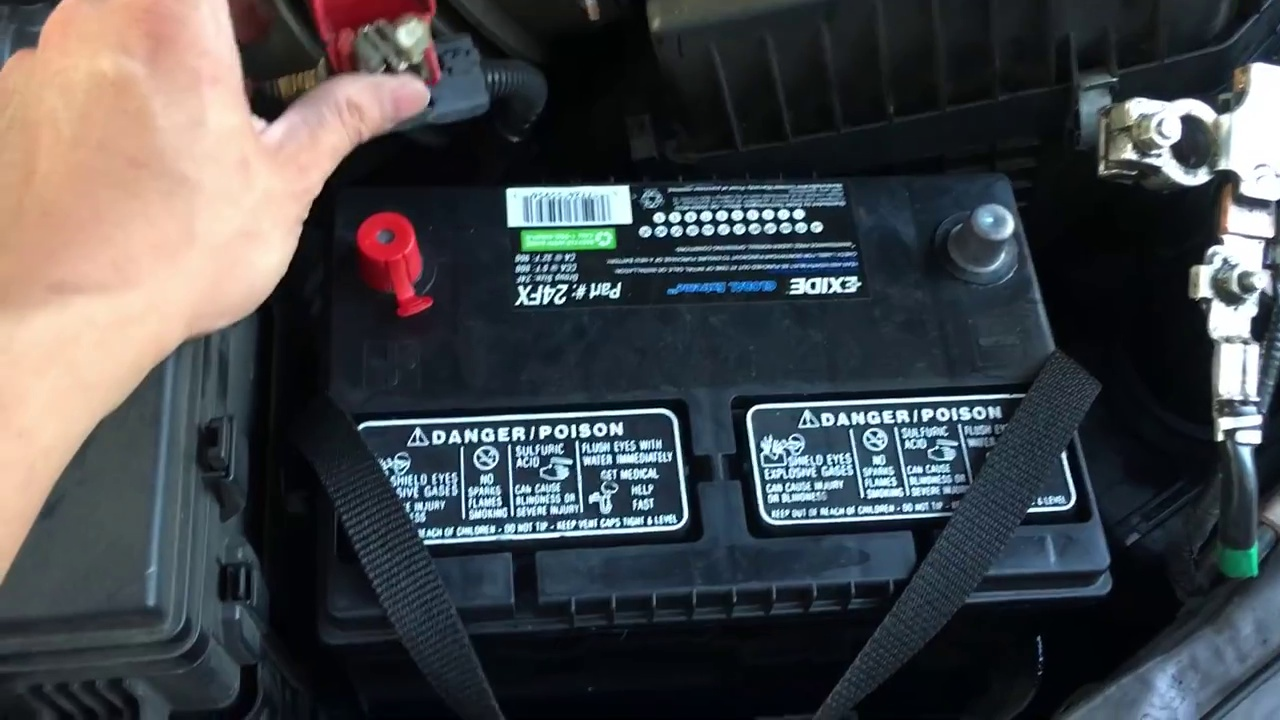battery: (327, 182, 1088, 588)
neg_disconnected: (911, 197, 1058, 298)
pos_disconnected: (262, 3, 484, 317)
pos_touched: (164, 24, 497, 349)
